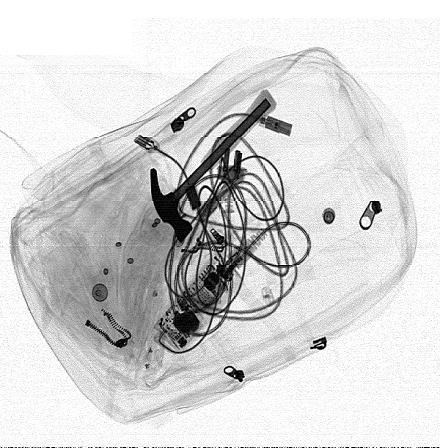Hammer: (150, 88, 277, 244)
